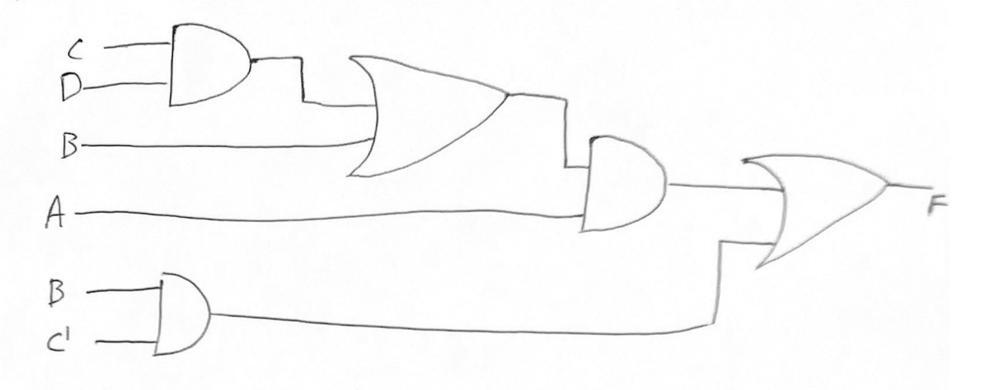AND: (578, 119, 682, 258), (167, 12, 264, 120), (149, 259, 222, 369)
OR: (340, 36, 523, 184), (737, 117, 894, 284)
